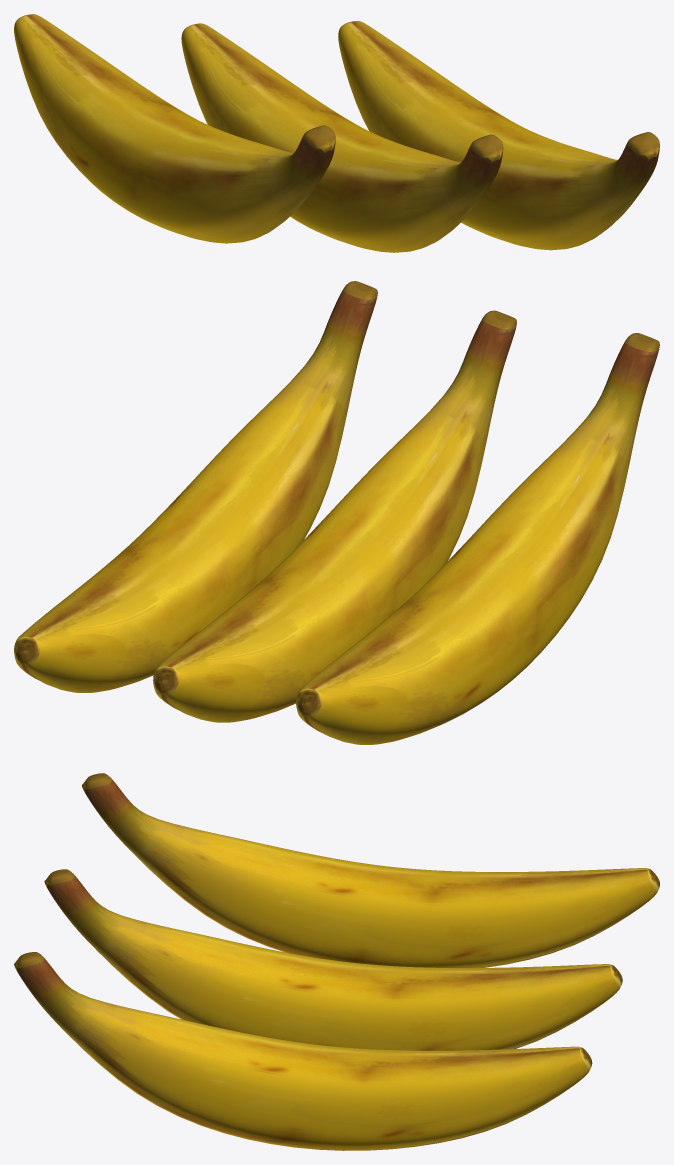
The model's file is banana.obj.
The picture shows the model from 3 angles, top to bottom: view 1: azimuth 30°, elevation 25°; view 2: azimuth 150°, elevation 25°; view 3: azimuth 270°, elevation 25°; orthographic projection. The views are drawn at different scales.
Parts seen in each view (by area): view 1: 10164_Banana_v01_it2.002, 10164_Banana_v01_it2.001, 10164_Banana_v01_it2; view 2: 10164_Banana_v01_it2.002, 10164_Banana_v01_it2.001, 10164_Banana_v01_it2; view 3: 10164_Banana_v01_it2.001, 10164_Banana_v01_it2.002, 10164_Banana_v01_it2.
Boxes of the visible parts, left/top/right/bottom form: 10164_Banana_v01_it2.002: left=14, top=14, right=335, bottom=243; 10164_Banana_v01_it2.001: left=338, top=21, right=659, bottom=250; 10164_Banana_v01_it2: left=181, top=23, right=503, bottom=252; 10164_Banana_v01_it2.002: left=296, top=333, right=659, bottom=744; 10164_Banana_v01_it2.001: left=14, top=281, right=377, bottom=692; 10164_Banana_v01_it2: left=153, top=310, right=516, bottom=722; 10164_Banana_v01_it2.001: left=14, top=952, right=592, bottom=1150; 10164_Banana_v01_it2.002: left=82, top=773, right=659, bottom=967; 10164_Banana_v01_it2: left=44, top=869, right=622, bottom=1050.
Size of the model in its own units: 0.4482 by 0.2895 by 0.702.
